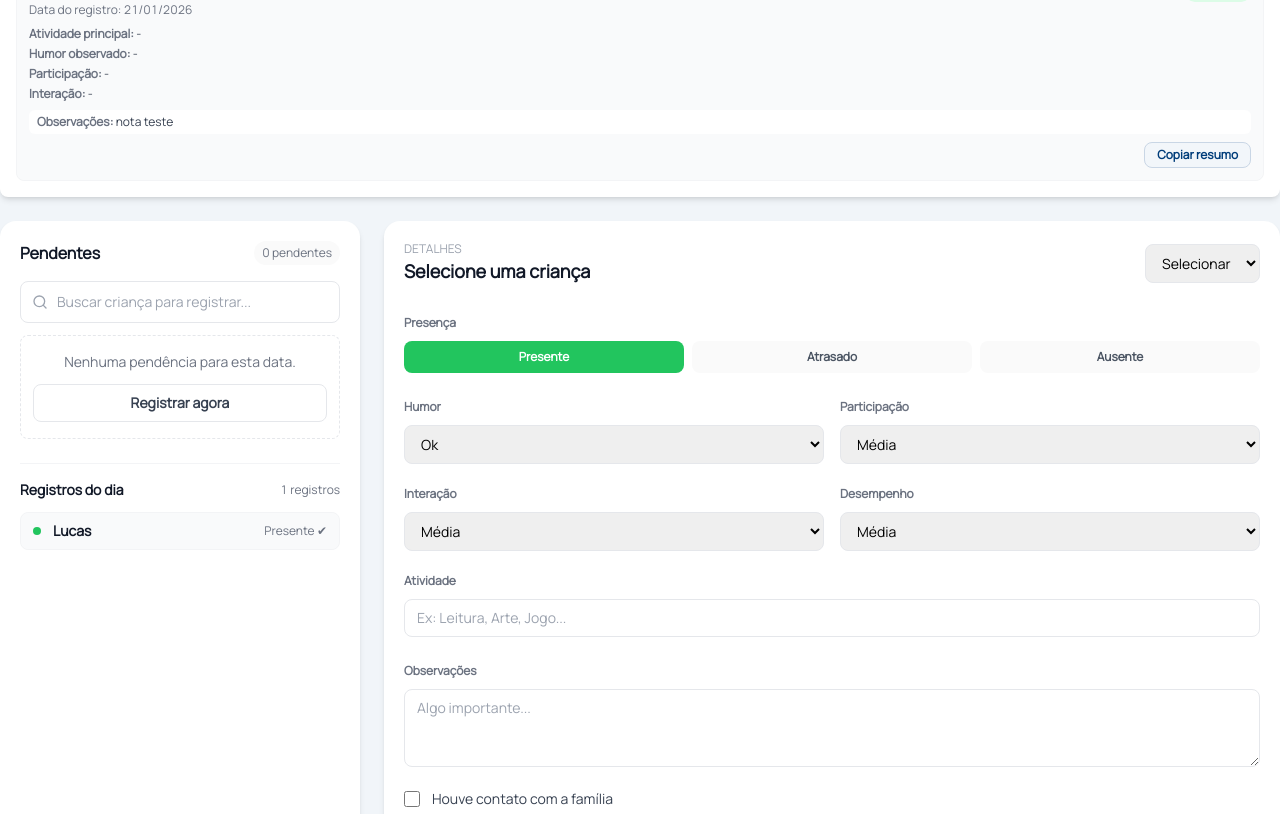
Scenario: DailyRecordDesktop edit flow › loads record into form when selecting a same-day record
This screenshot has width=1280, height=814.
(page scrolled)
Click the button "Lucas Presente ✔".
click(72, 530)  # box [20,512,340,550]
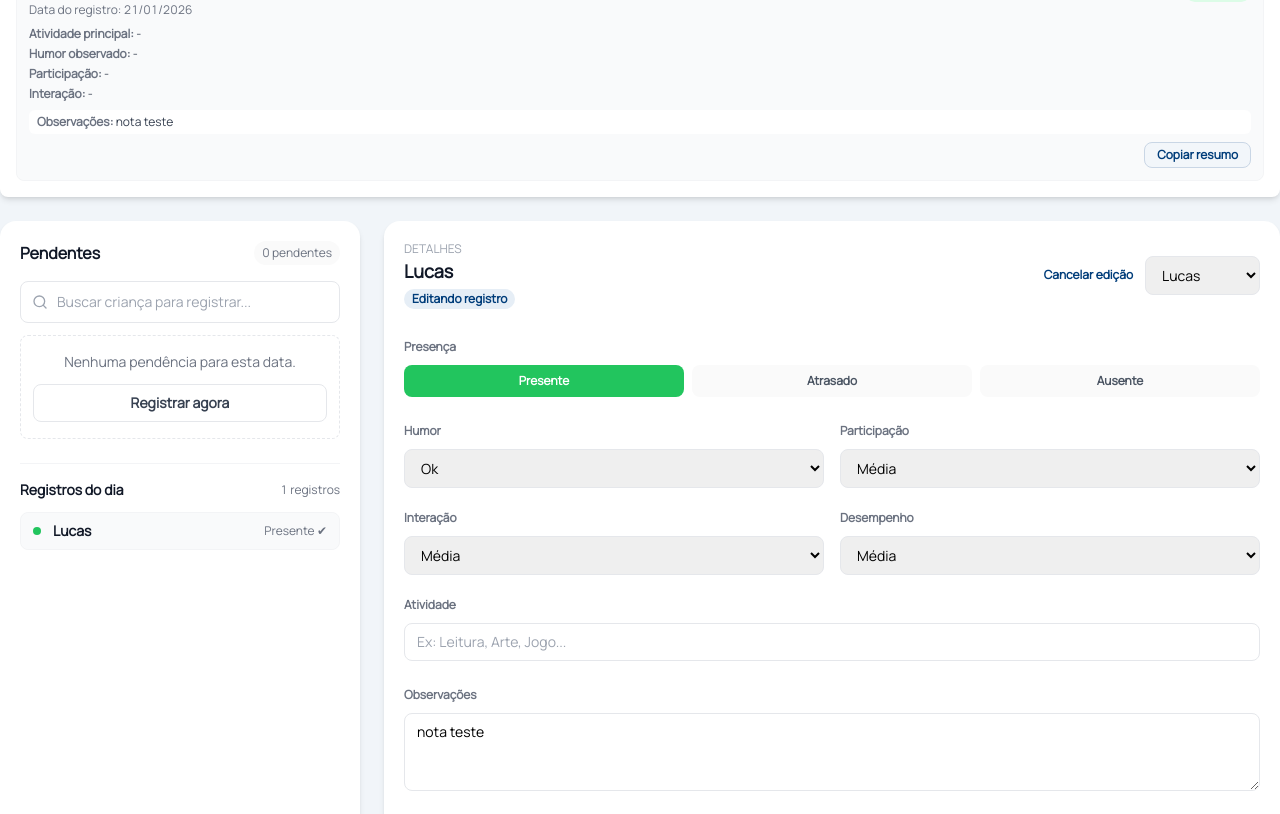
expect the text box with placeholder "Algo importante..." holds "nota teste": met, box [404,713,1260,791]
